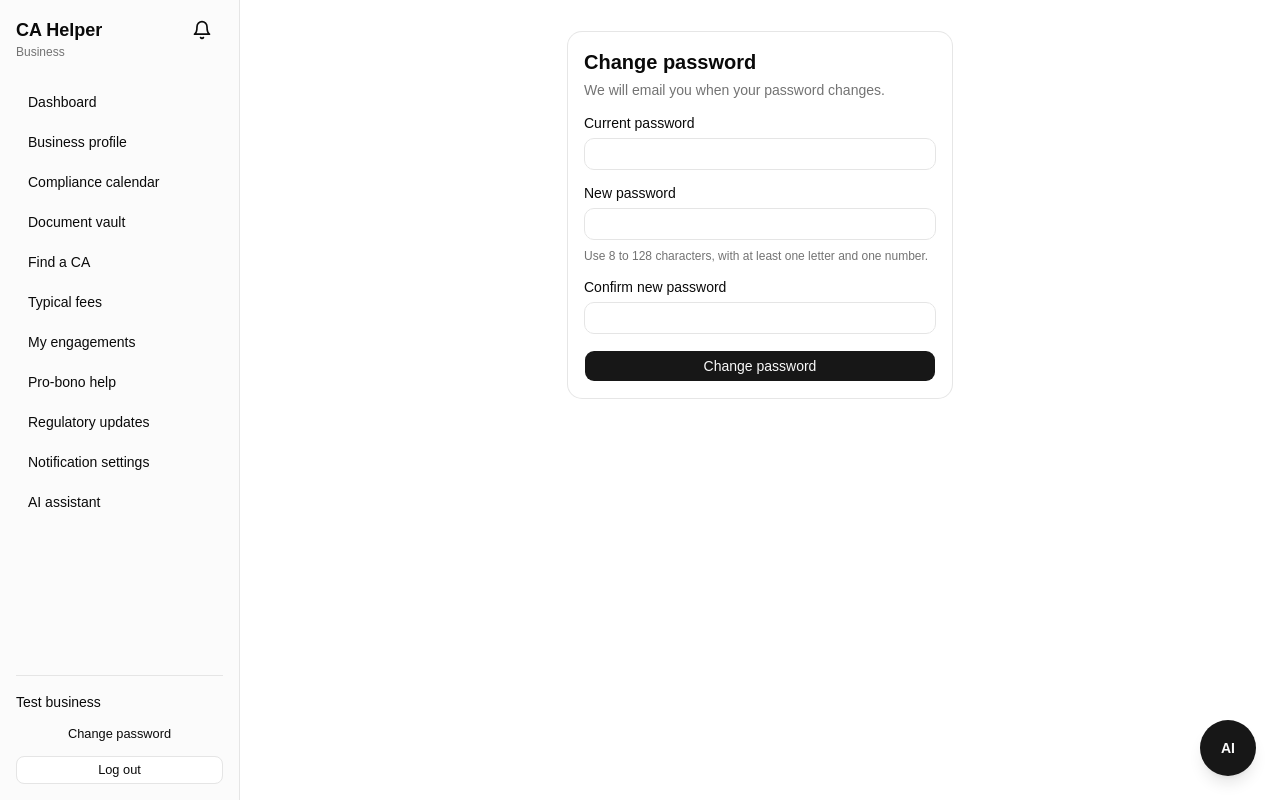
Test: change password page › shows a wrong current password without logging out
The width and height of the screenshot is (1280, 800).
Type "Old-Password-1" into the password field labelled "Current password" at [760, 154], box [584,138,936,170]
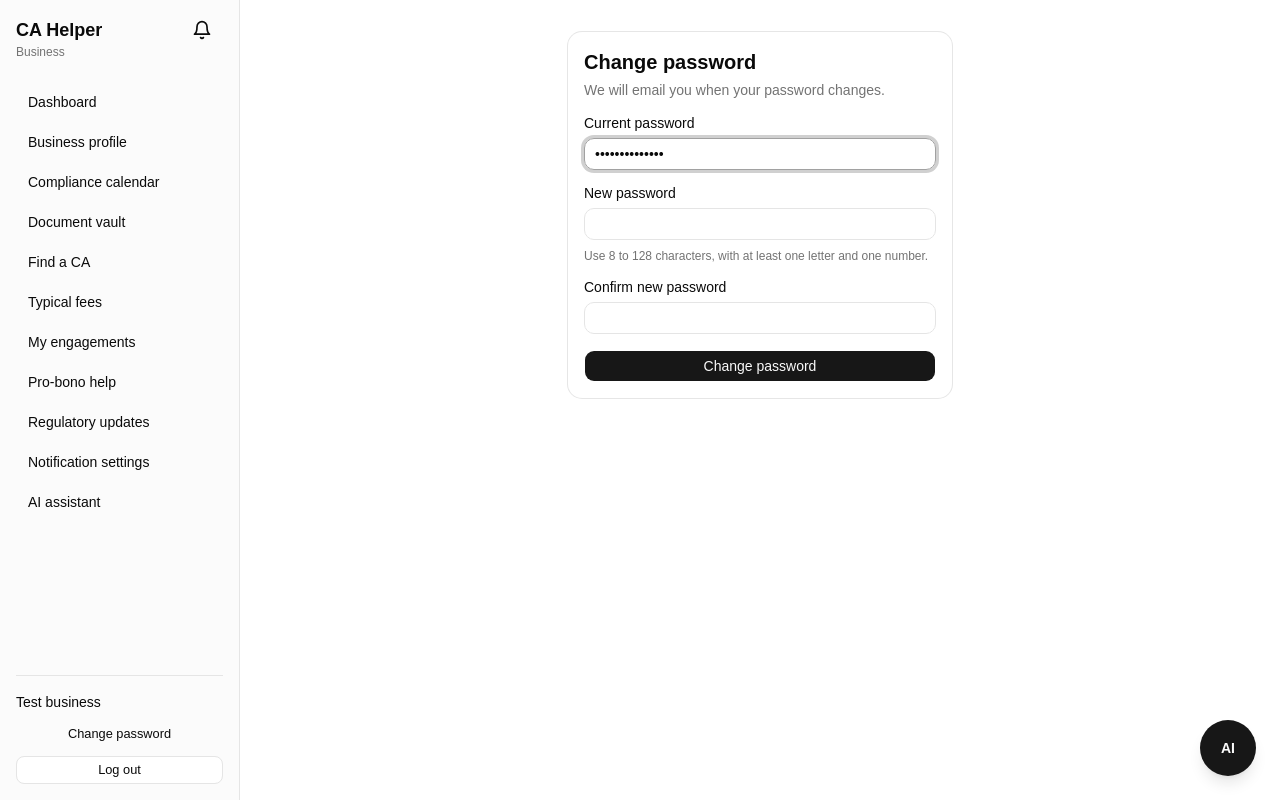
Type "New-Password-7" into the password field labelled "New password" at [760, 224], box [584,208,936,240]
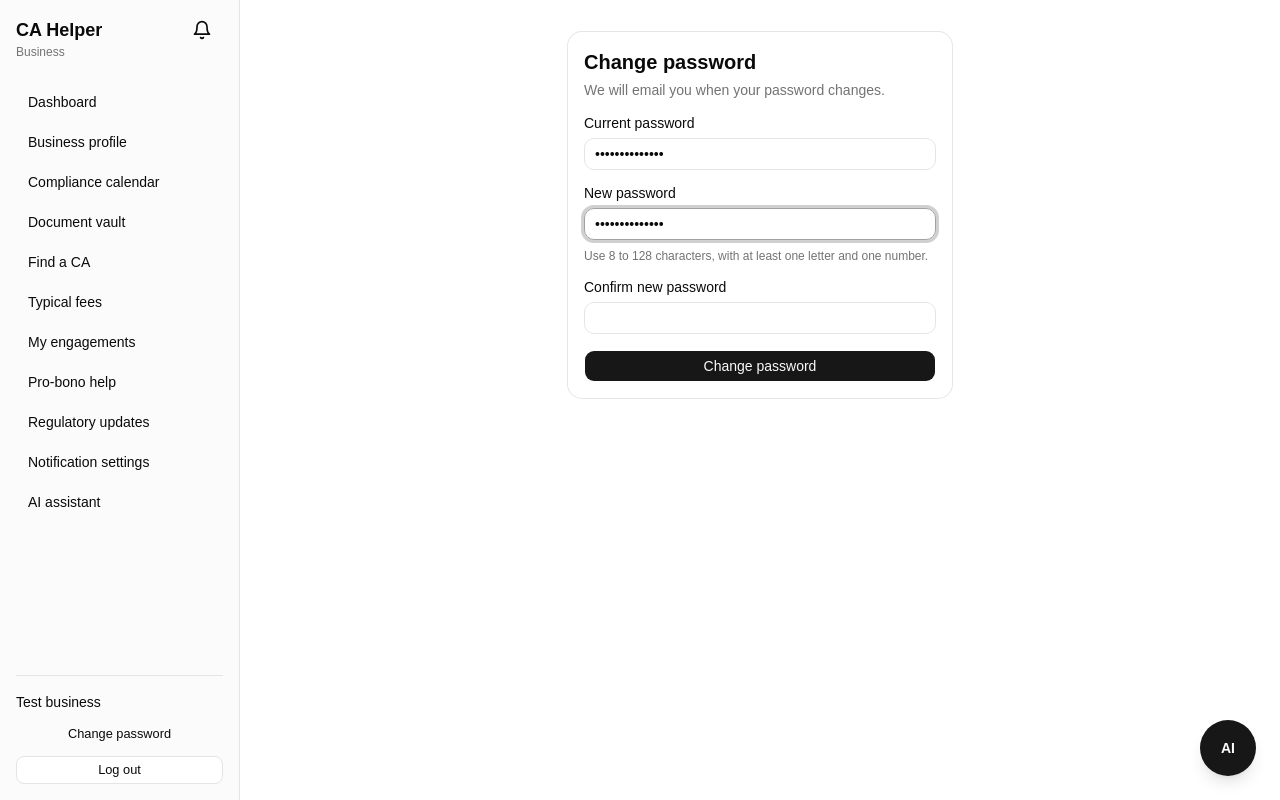
Type "New-Password-7" into the password field labelled "Confirm new password" at [760, 318], box [584,302,936,334]
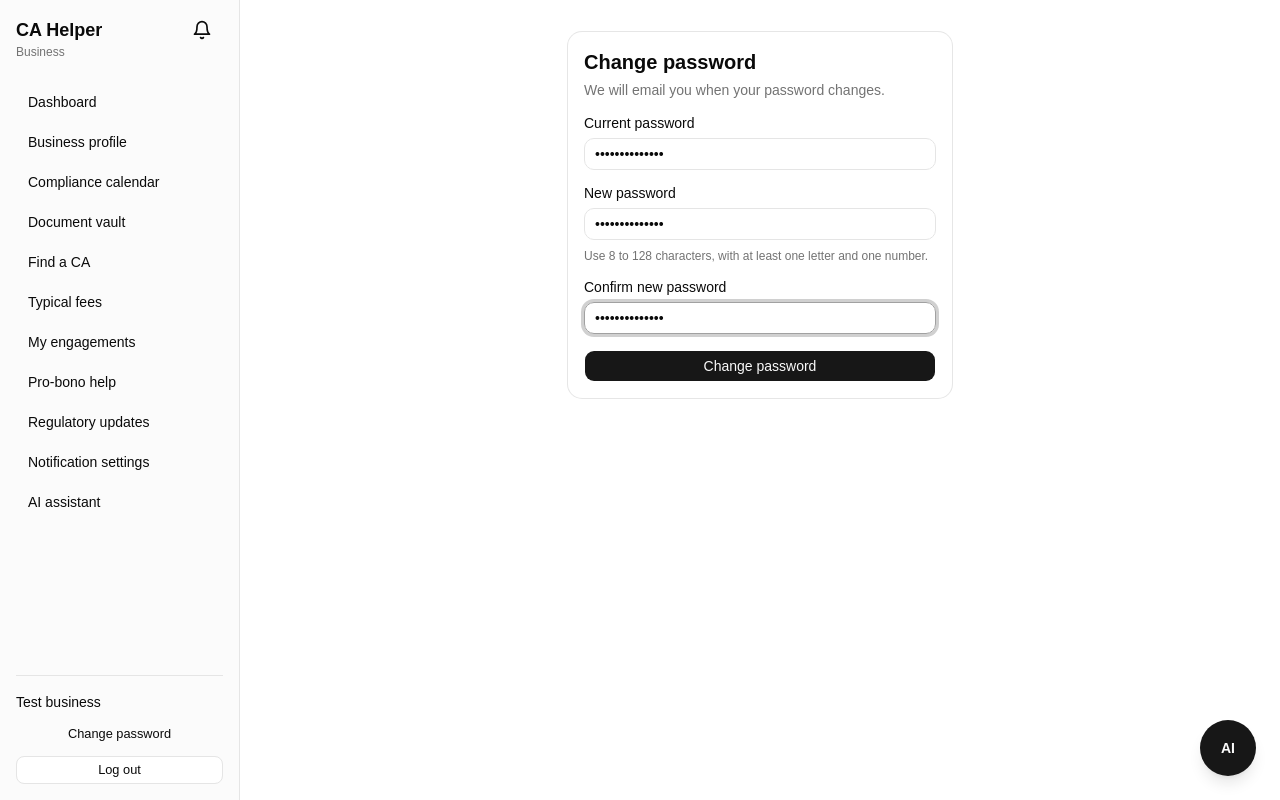
Click the button "Change password" at [760, 366], box [584,350,936,382]
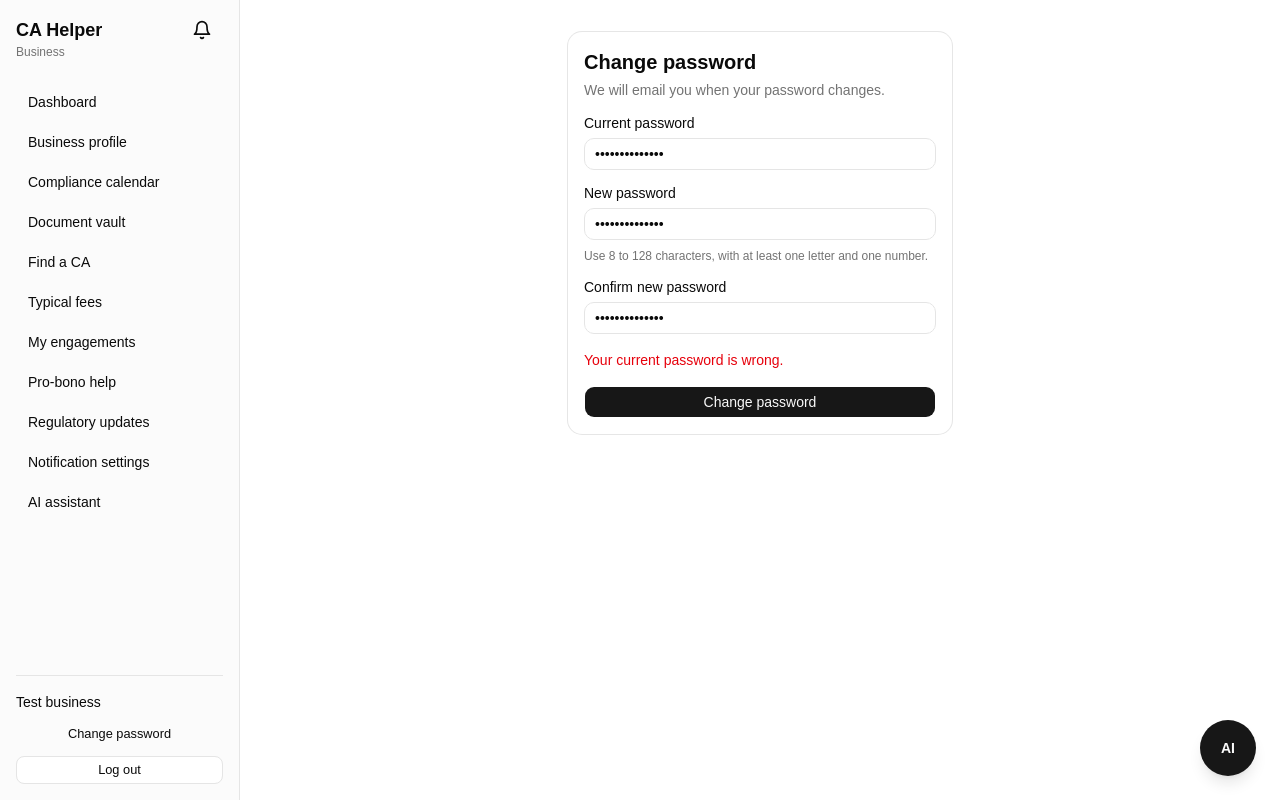
Expected: the heading "Change password" is shown, [584,51,756,73]
Now the message reads "Your current password is wrong.", box [584,352,784,368]
